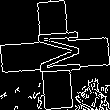M_W: (28, 30, 82, 80)
